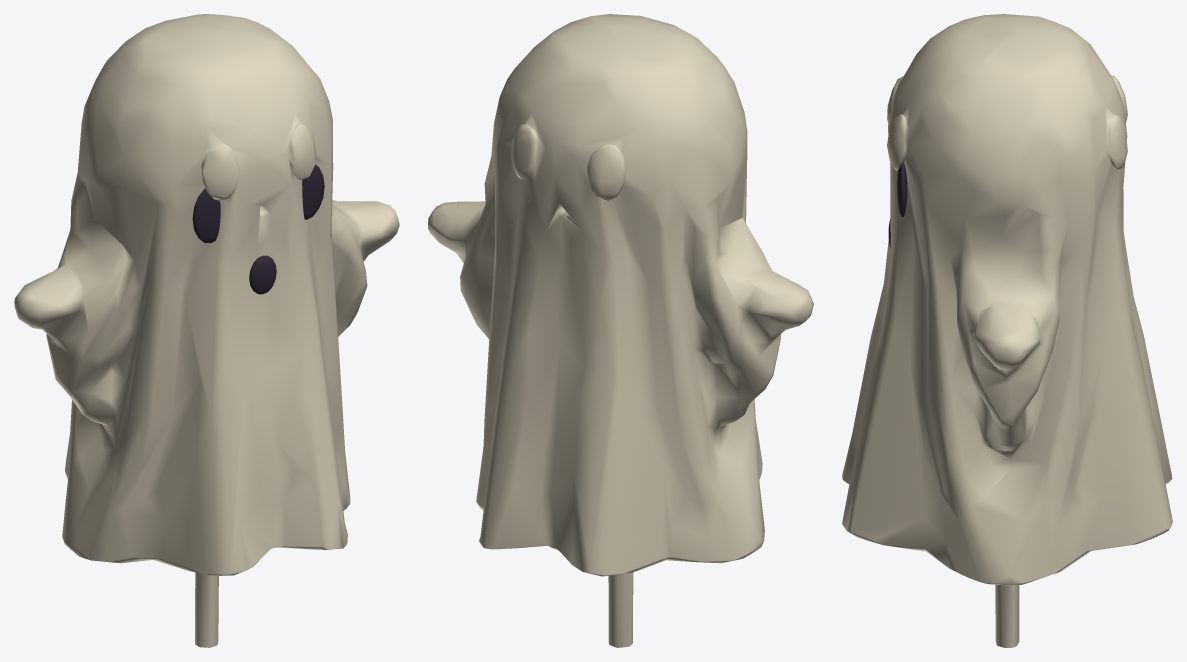
Rendered from little-ghost.glb.
3 renders of one model, left to right at view 1: azimuth 30°, elevation 25°; view 2: azimuth 150°, elevation 25°; view 3: azimuth 270°, elevation 25°, orthographic.
Visible parts, largest first — view 1: little-ghost, ghost-ink (×3); view 2: little-ghost; view 3: little-ghost, ghost-ink.
Boxes of the visible parts, <box> form: little-ghost: <box>14,14,399,647</box>; ghost-ink (×3): <box>192,164,324,294</box>; little-ghost: <box>428,14,813,647</box>; little-ghost: <box>842,14,1172,647</box>; ghost-ink: <box>897,162,907,217</box>.
Size of the model in its own units: 0.246 by 0.38 by 0.1866.
